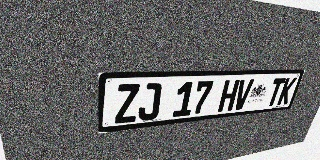1: (173, 81, 196, 117)
7: (190, 81, 214, 115)
H: (217, 80, 240, 112)
J: (138, 83, 162, 121)
K: (277, 77, 297, 105)
T: (265, 78, 286, 107)
V: (232, 79, 254, 110)
Z: (115, 84, 140, 124)
